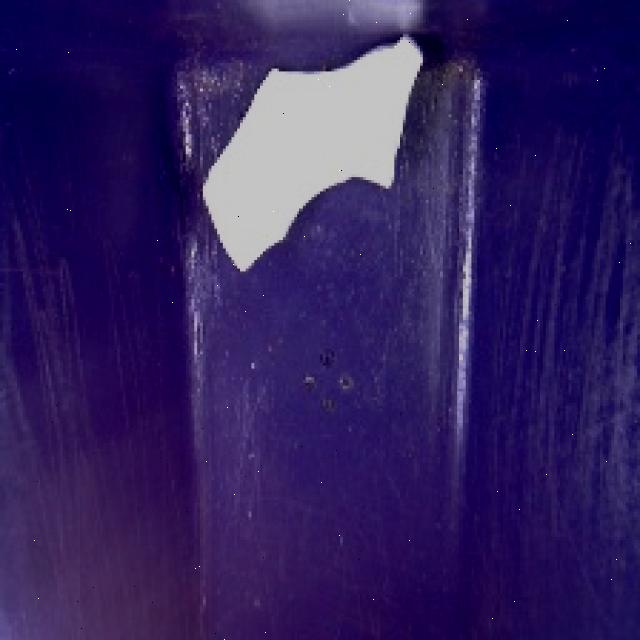china: (192, 23, 436, 287)
